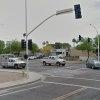Traffic light: (69, 2, 89, 26)
